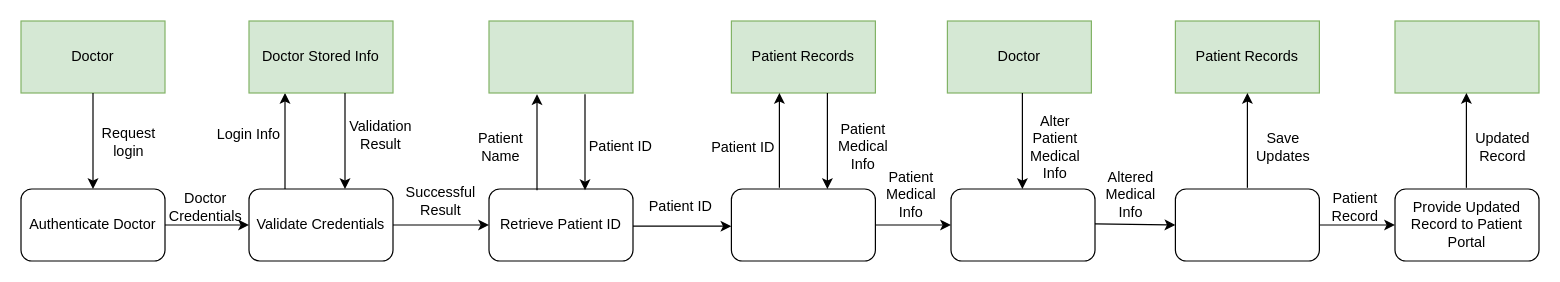
This 1560x282 diagram has some shape labels left out. The shapes that lost their labels are listed below. From the top down, each one's centre as x and y in pixels, then its label:
(x=560, y=56): Patient Database
(x=1466, y=56): Patient Portal
(x=802, y=224): Retrieve Patient Medical
(x=1022, y=224): Modify Patient Information
(x=1246, y=224): Save Updated Patient Medical Info
